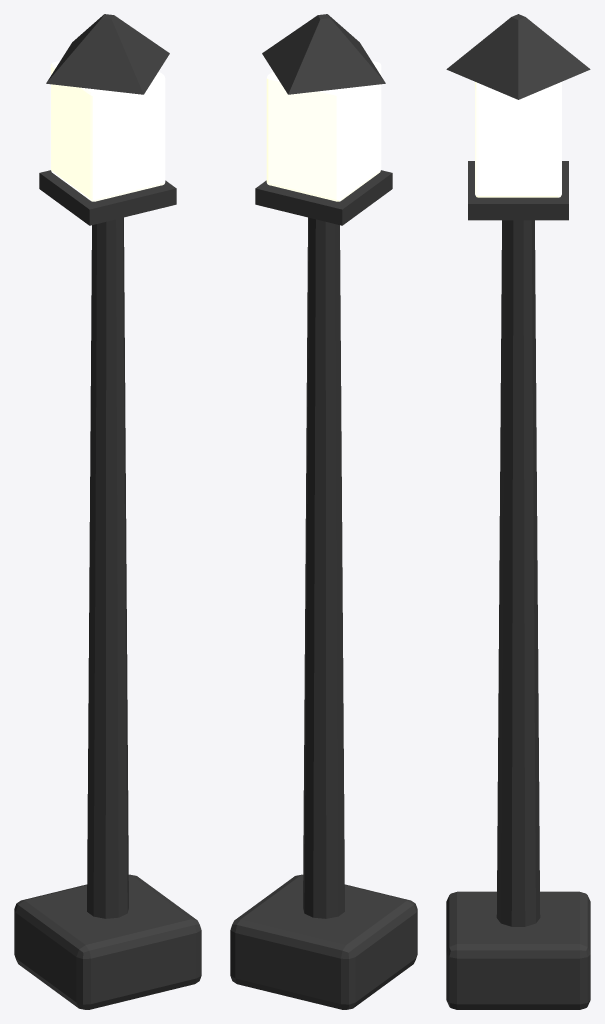
The model's file is Lantern.glb.
3 views of the same model, side by side, from view 1: azimuth 30°, elevation 25°; view 2: azimuth 150°, elevation 25°; view 3: azimuth 270°, elevation 25° (orthographic).
Visible parts, largest first — view 1: Lantern; view 2: Lantern; view 3: Lantern.
Part boxes in pixels (left/top/right/bottom): Lantern: left=14, top=14, right=201, bottom=1009; Lantern: left=230, top=14, right=417, bottom=1009; Lantern: left=446, top=14, right=590, bottom=1009.
Bounding box in the file's own units: 0.4 × 2.95 × 0.4.
